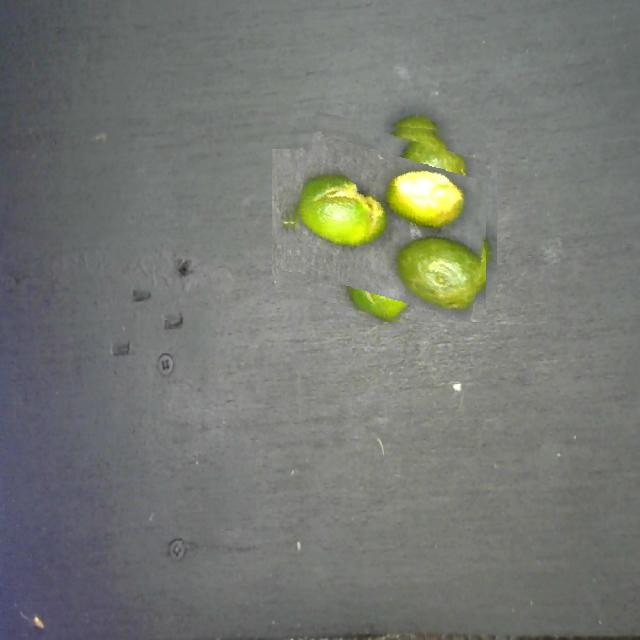biodegradable: (283, 120, 486, 322)
